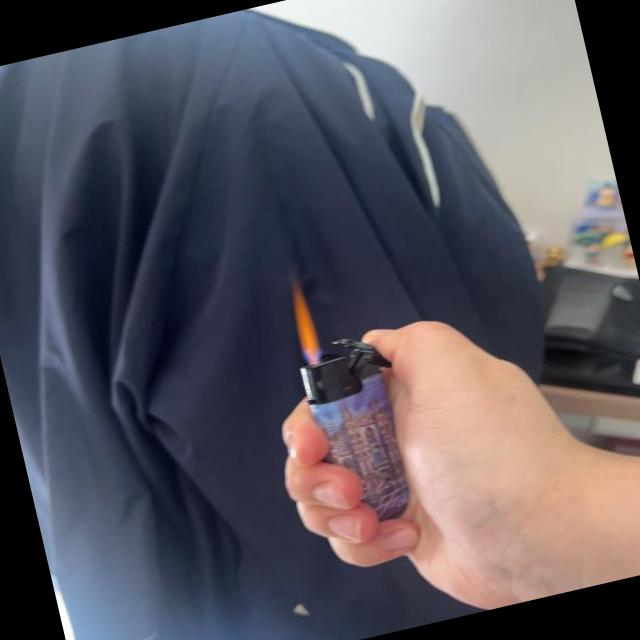Fire: (284, 279, 327, 371)
